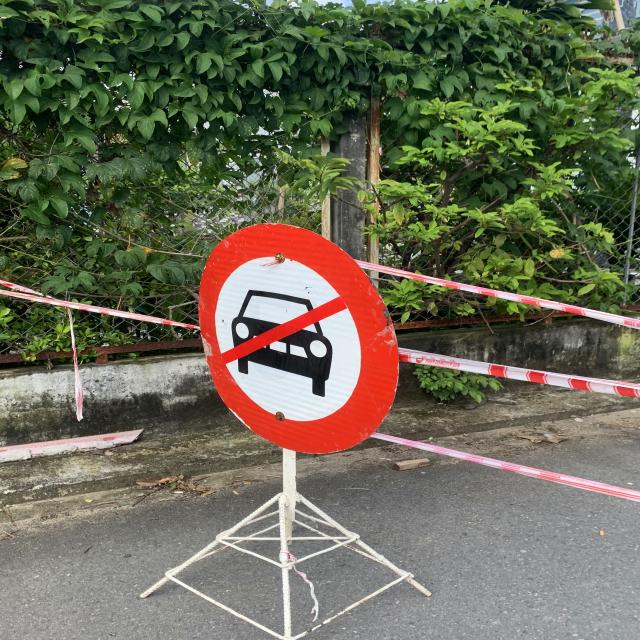Cam_O_To: (196, 222, 400, 456)
